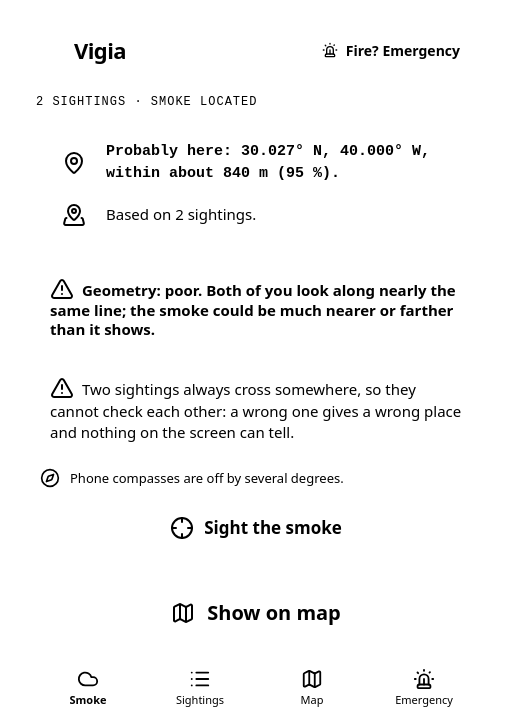
the header by route (Req 22.2) › is none on the Sight screen, whose first control is Back
The image size is (513, 724).
What coordinates should you click on to do the following:
click the button "Sight the smoke"
I would click on:
 (256, 528)
Its box is [36,500,476,556].
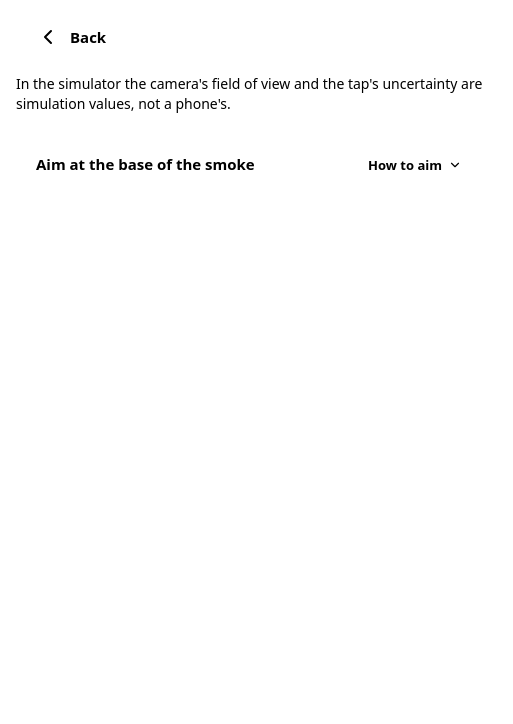
Result: the element with test id "sight-screen" is shown at [16,12,496,187]
Result: the header with test id "app-header" is gone
Result: the button "Back" is shown at [16,12,126,62]
